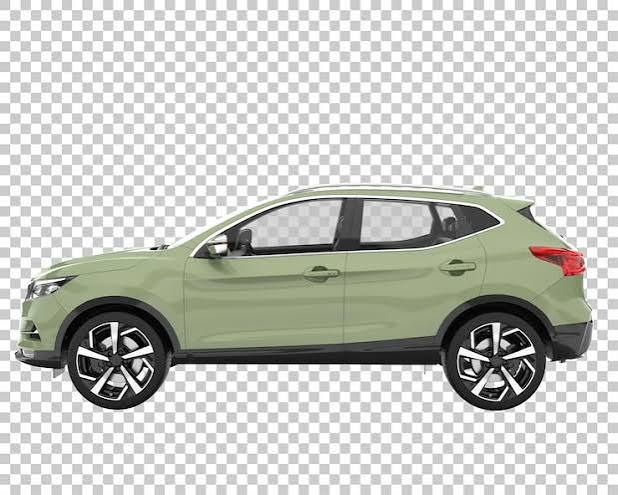car: (7, 178, 602, 404)
